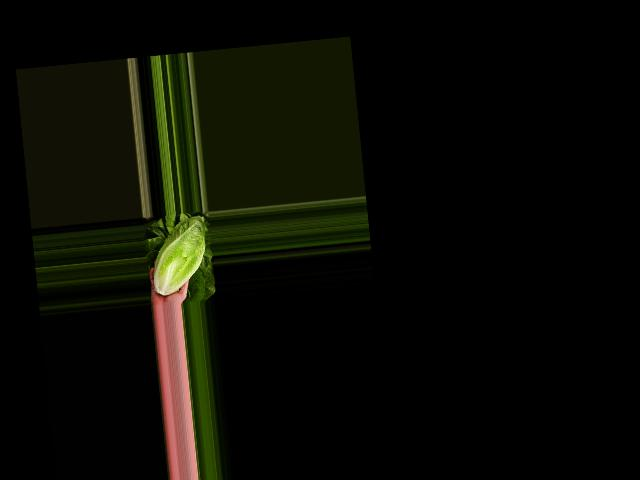lettuce: (145, 214, 212, 297)
